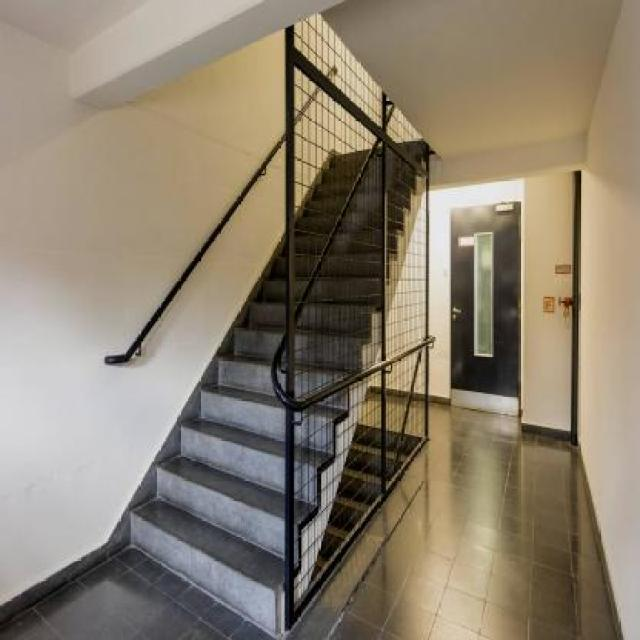stair: (118, 0, 442, 631)
